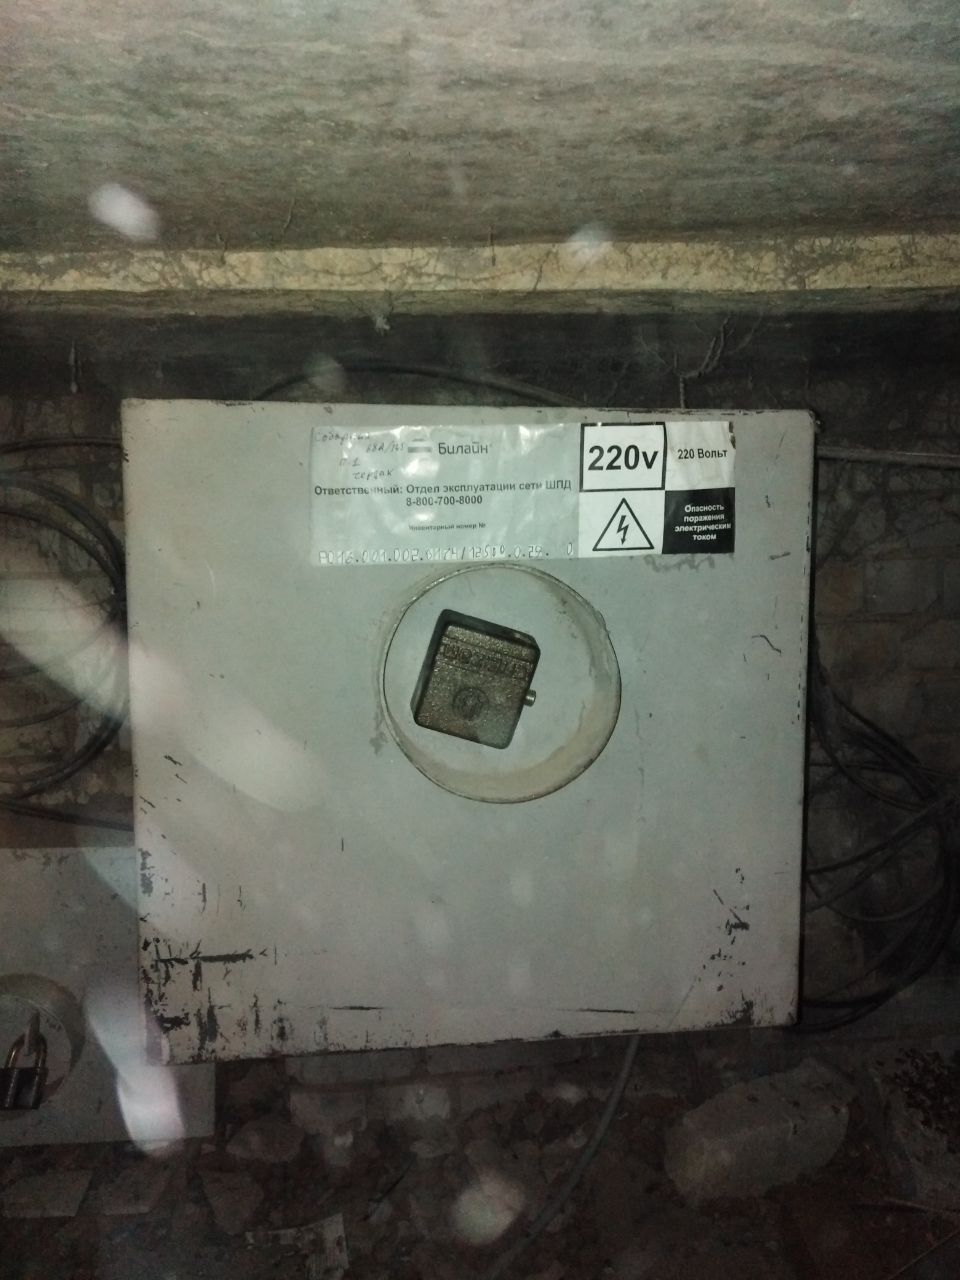shta-9: (108, 381, 823, 1073)
